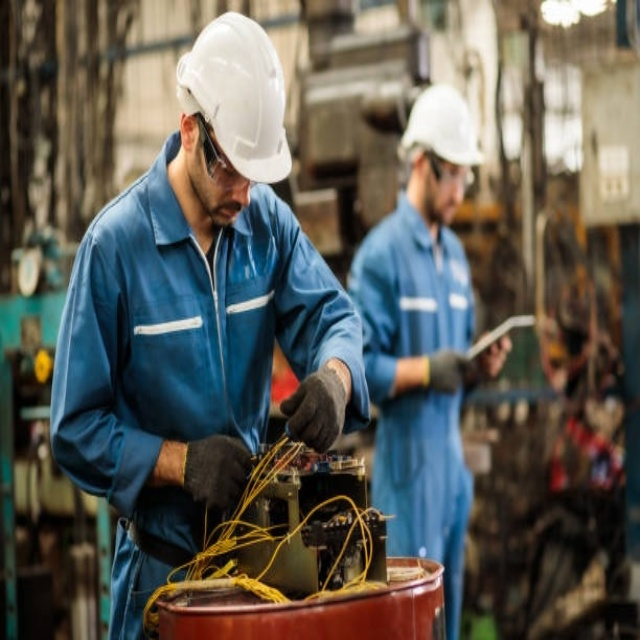Gafas: (196, 115, 253, 190), (428, 151, 475, 191)
Guantes: (280, 363, 348, 453), (181, 433, 254, 511), (425, 349, 465, 395)
Sin_mascara: (209, 198, 249, 227)
